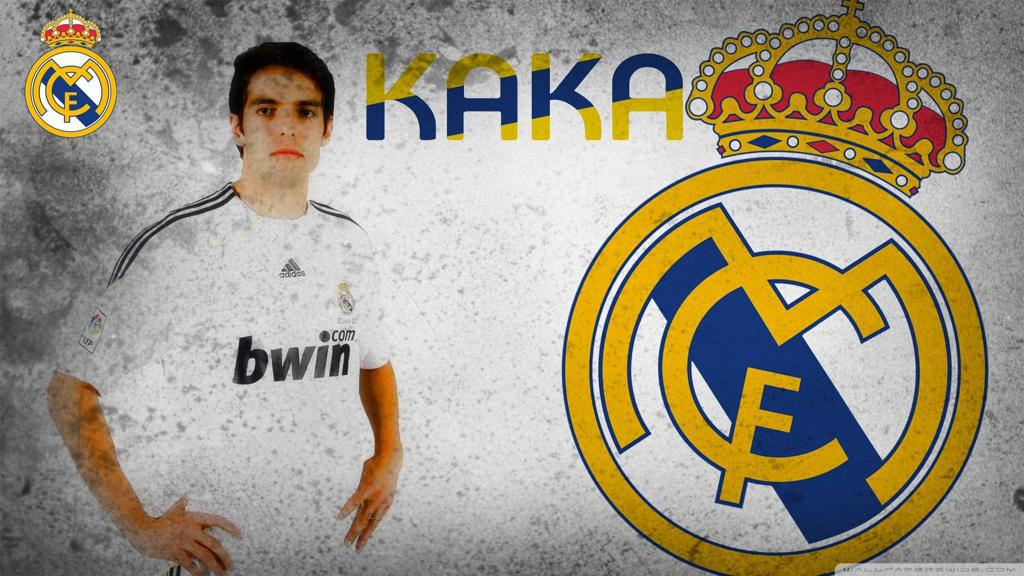face: (243, 69, 323, 179)
